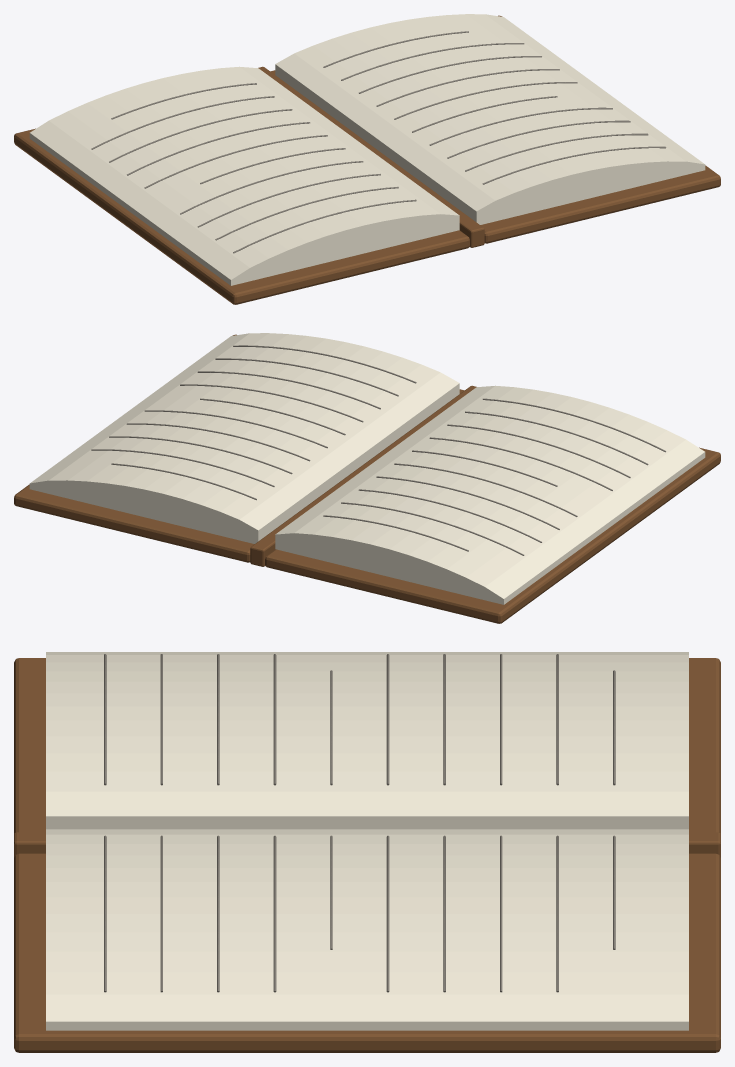
The model's file is book_open.glb.
The picture shows the model from 3 angles, top to bottom: view 1: azimuth 30°, elevation 25°; view 2: azimuth 150°, elevation 25°; view 3: azimuth 270°, elevation 25°; orthographic projection. The views are drawn at different scales.
Parts seen in each view (by area): view 1: Curved open page block, Curved open page block.001, Open leather cover, Open leather cover.001, Open book spine; view 2: Curved open page block, Curved open page block.001, Open leather cover, Open leather cover.001, Open book spine; view 3: Curved open page block.001, Curved open page block, Open leather cover.001, Open leather cover, Open book spine.
Boxes of the visible parts, x1,y1,x2,y2 form: Curved open page block: (29,66,459,285); Curved open page block.001: (275,14,705,224); Open leather cover: (14,128,469,304); Open leather cover.001: (270,15,720,243); Open book spine: (258,66,484,247); Curved open page block: (275,385,705,604); Curved open page block.001: (29,333,459,543); Open leather cover: (265,447,720,623); Open leather cover.001: (14,334,464,562); Open book spine: (250,385,476,566); Curved open page block.001: (46,829,688,1030); Curved open page block: (46,652,688,829); Open leather cover.001: (14,853,720,1052); Open leather cover: (14,658,720,833); Open book spine: (14,832,720,857).
Bounding box in the file's own units: 0.35 × 0.0279 × 0.275.
